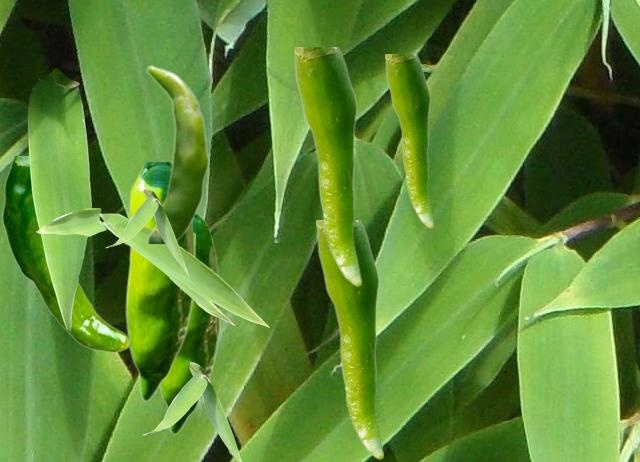green_chili: (2, 156, 127, 352), (125, 162, 194, 400), (316, 220, 382, 458), (294, 47, 360, 285), (158, 214, 219, 433), (145, 64, 209, 242), (385, 54, 432, 227)
